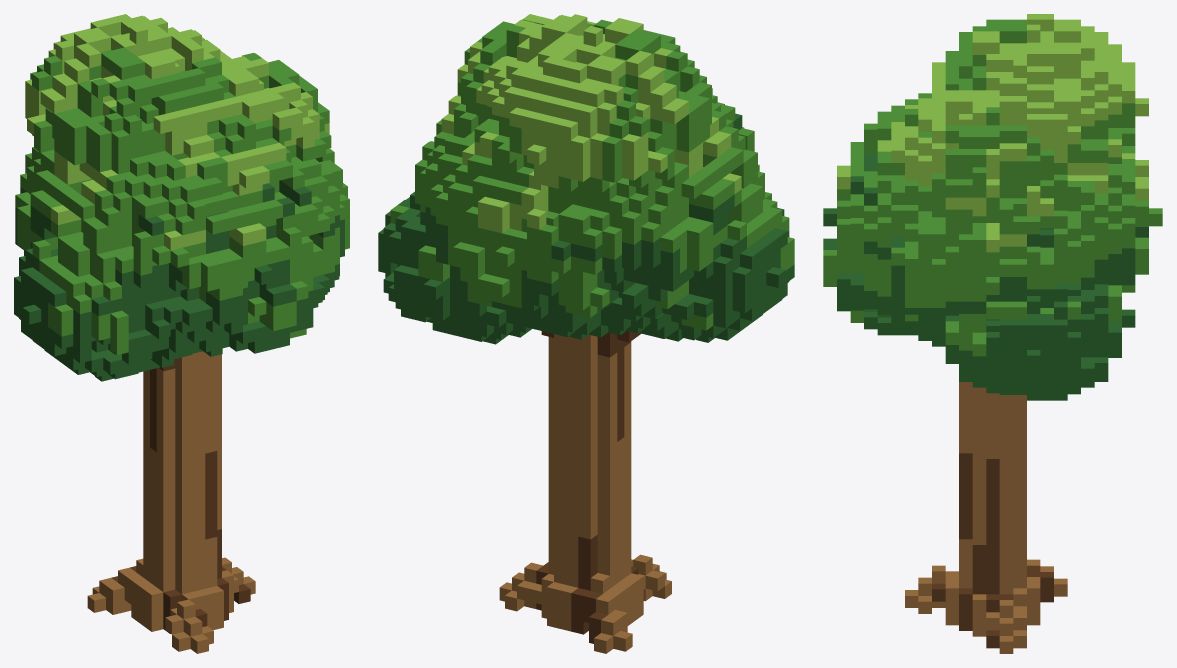
File: tree.fbx
3 views of the same model, side by side, from view 1: azimuth 30°, elevation 25°; view 2: azimuth 150°, elevation 25°; view 3: azimuth 270°, elevation 25° (orthographic). The views are drawn at different scales.
Visible parts, largest first — view 1: VX_Tree; view 2: VX_Tree; view 3: VX_Tree.
Boxes of the visible parts, left/top/right/bottom form: VX_Tree: left=14, top=14, right=349, bottom=653; VX_Tree: left=378, top=14, right=794, bottom=653; VX_Tree: left=823, top=14, right=1162, bottom=653.
Bounding box in the file's own units: 290 × 470 × 250.
1 material, 1 textured.
